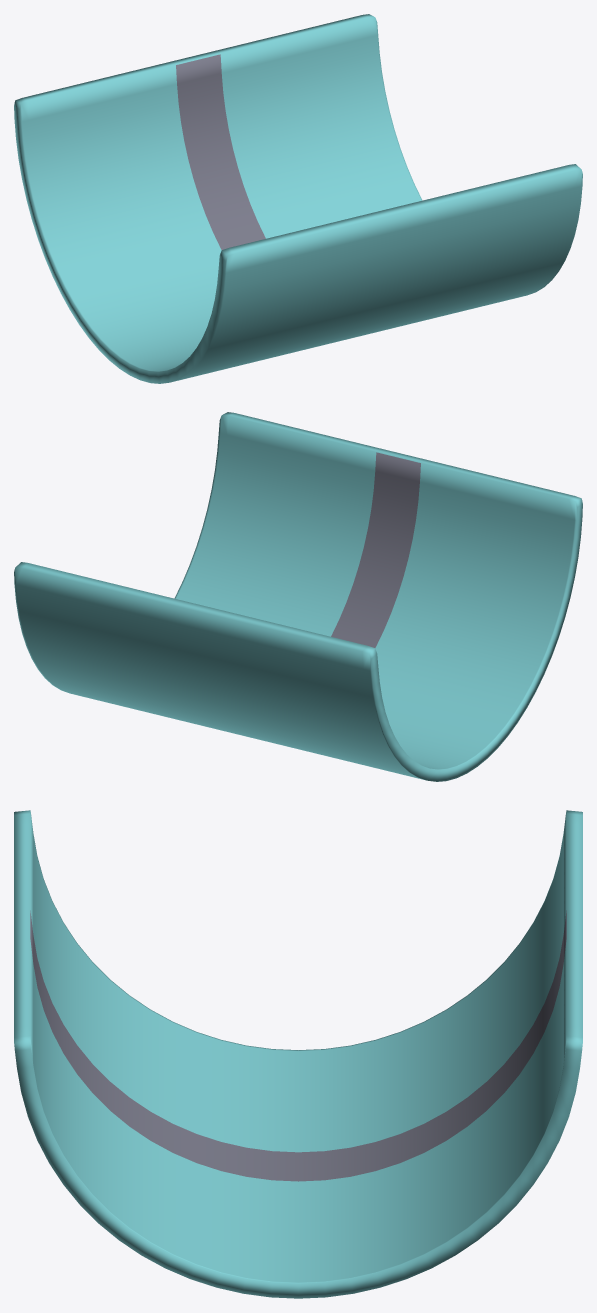
Rendered from ImprovedSlide.fbx.
The picture shows the model from 3 angles, top to bottom: view 1: azimuth 30°, elevation 25°; view 2: azimuth 150°, elevation 25°; view 3: azimuth 270°, elevation 25°; orthographic projection. The views are drawn at different scales.
Parts seen in each view (by area): view 1: Cylinder; view 2: Cylinder; view 3: Cylinder.
Boxes of the visible parts, x1,y1,x2,y2 form: Cylinder: (14, 14, 582, 383); Cylinder: (14, 412, 582, 781); Cylinder: (14, 810, 582, 1298).
Size of the model in its own units: 400 by 205 by 412.
